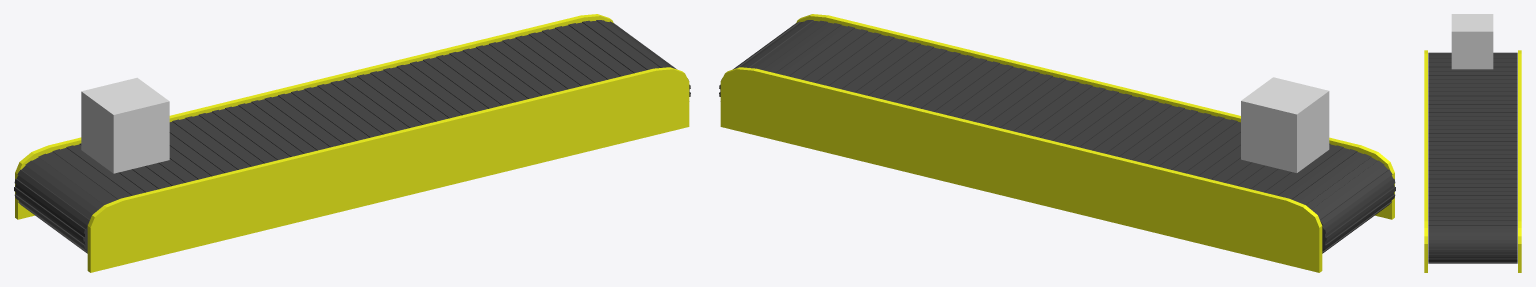
The model's file is Fließband.fbx.
3 views of the same model, side by side, from view 1: azimuth 30°, elevation 25°; view 2: azimuth 150°, elevation 25°; view 3: azimuth 270°, elevation 25° (orthographic). The views are drawn at different scales.
Visible parts, largest first — view 1: Plane.001, Plane, Cube; view 2: Plane.001, Plane, Cube; view 3: Plane, Cube, Plane.001.
Boxes of the visible parts, box(x1,y1,x2,y2) form: Plane.001: box(15, 14, 689, 272); Plane: box(14, 20, 690, 253); Cube: box(81, 77, 169, 173); Plane.001: box(720, 14, 1394, 272); Plane: box(719, 20, 1395, 253); Cube: box(1241, 77, 1329, 172); Plane: box(1428, 52, 1517, 263); Cube: box(1451, 14, 1493, 69); Plane.001: box(1424, 50, 1521, 272).
Bounding box in the file's own units: 393 × 81.43 × 84.64.
